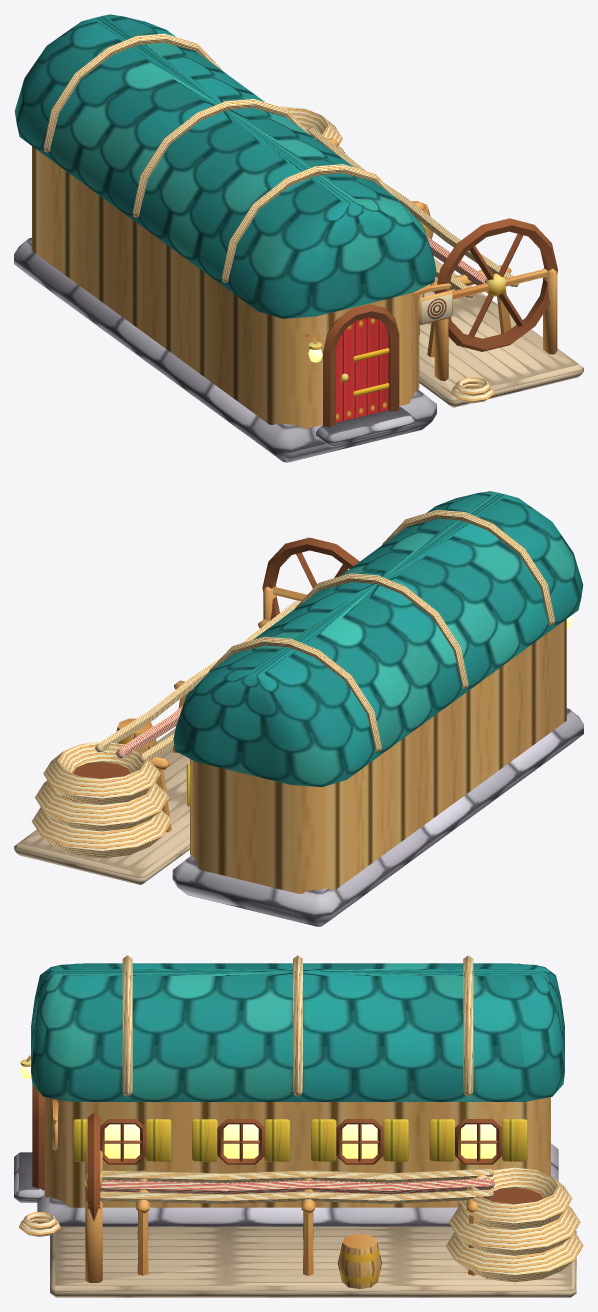
File: ropewalk.glb
3 views of the same model, one above another, from view 1: azimuth 30°, elevation 25°; view 2: azimuth 150°, elevation 25°; view 3: azimuth 270°, elevation 25° (orthographic). The views are drawn at different scales.
Parts seen in each view (by area): view 1: ropewalk; view 2: ropewalk; view 3: ropewalk.
Boxes of the visible parts, x1,y1,x2,y2 form: ropewalk: (14, 14, 583, 462); ropewalk: (14, 491, 583, 926); ropewalk: (14, 955, 583, 1297).
Size of the model in its own units: 7.07 by 5.11 by 11.04.
4 materials, 4 textured.
